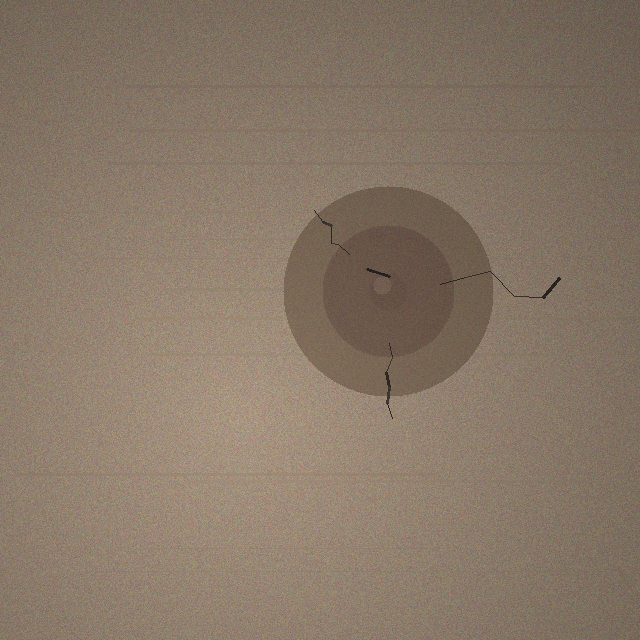crack: (283, 186, 493, 396)
